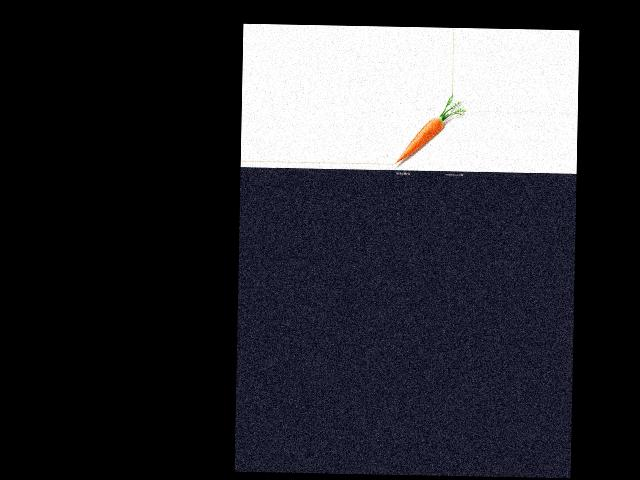carrot: (395, 103, 451, 166)
